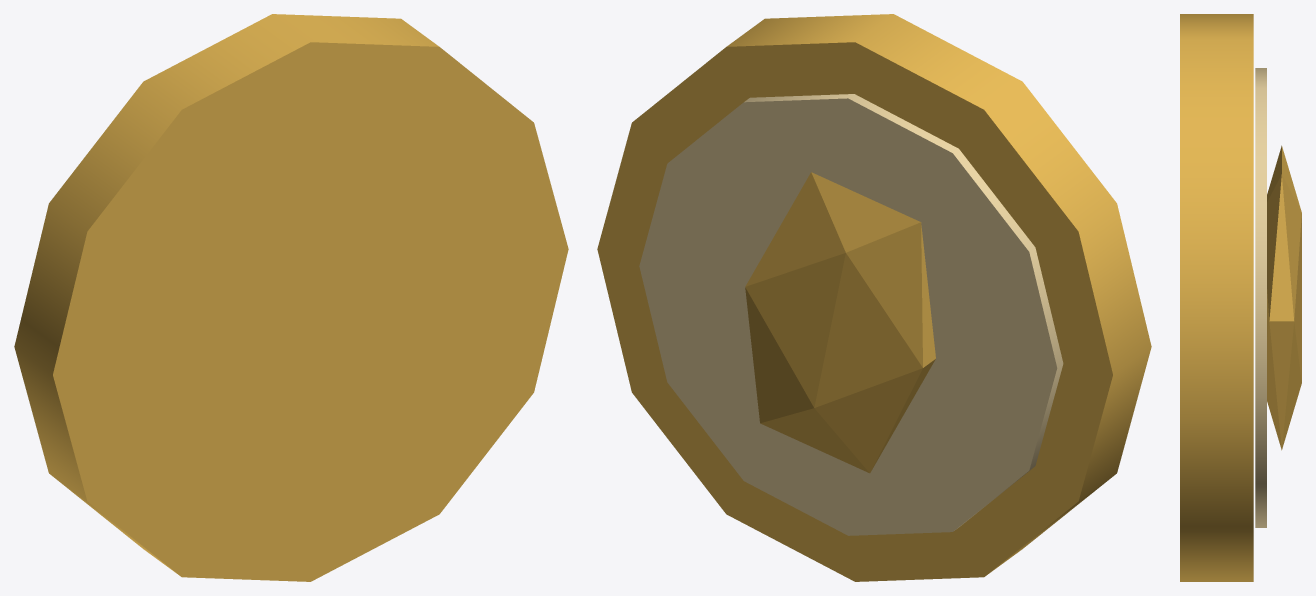
Rendered from gold-coin.glb.
3 views of the same model, side by side, from view 1: azimuth 30°, elevation 25°; view 2: azimuth 150°, elevation 25°; view 3: azimuth 270°, elevation 25° (orthographic). The views are drawn at different scales.
Parts seen in each view (by area): view 1: coin; view 2: face, coin, stamp; view 3: coin, stamp, face.
Part boxes in pixels (<box>): coin: <box>14,14,568,581</box>; face: <box>639,94,1063,535</box>; coin: <box>597,14,1151,581</box>; stamp: <box>745,172,935,473</box>; coin: <box>1180,14,1253,581</box>; stamp: <box>1267,145,1301,450</box>; face: <box>1255,68,1266,527</box>.
Size of the model in its own units: 0.58 by 0.58 by 0.1239.
